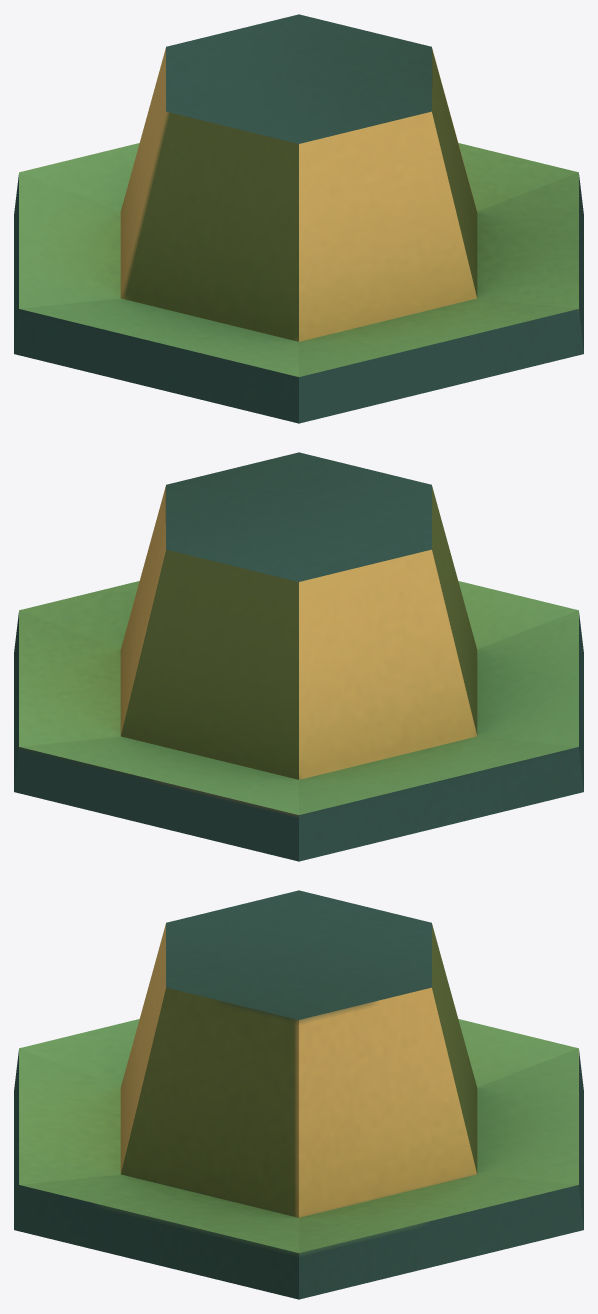
Rendered from Hat 2.FBX.
3 renders of one model, top to bottom at view 1: azimuth 30°, elevation 25°; view 2: azimuth 150°, elevation 25°; view 3: azimuth 270°, elevation 25°, orthographic.
Parts seen in each view (by area): view 1: Hat2; view 2: Hat2; view 3: Hat2.
Part boxes in pixels (left/top/right/bottom): Hat2: left=14, top=14, right=583, bottom=423; Hat2: left=14, top=452, right=583, bottom=861; Hat2: left=14, top=890, right=583, bottom=1299.
Bounding box in the file's own units: 390 × 337 × 143.
Materials: 1 (1 with a texture image).
